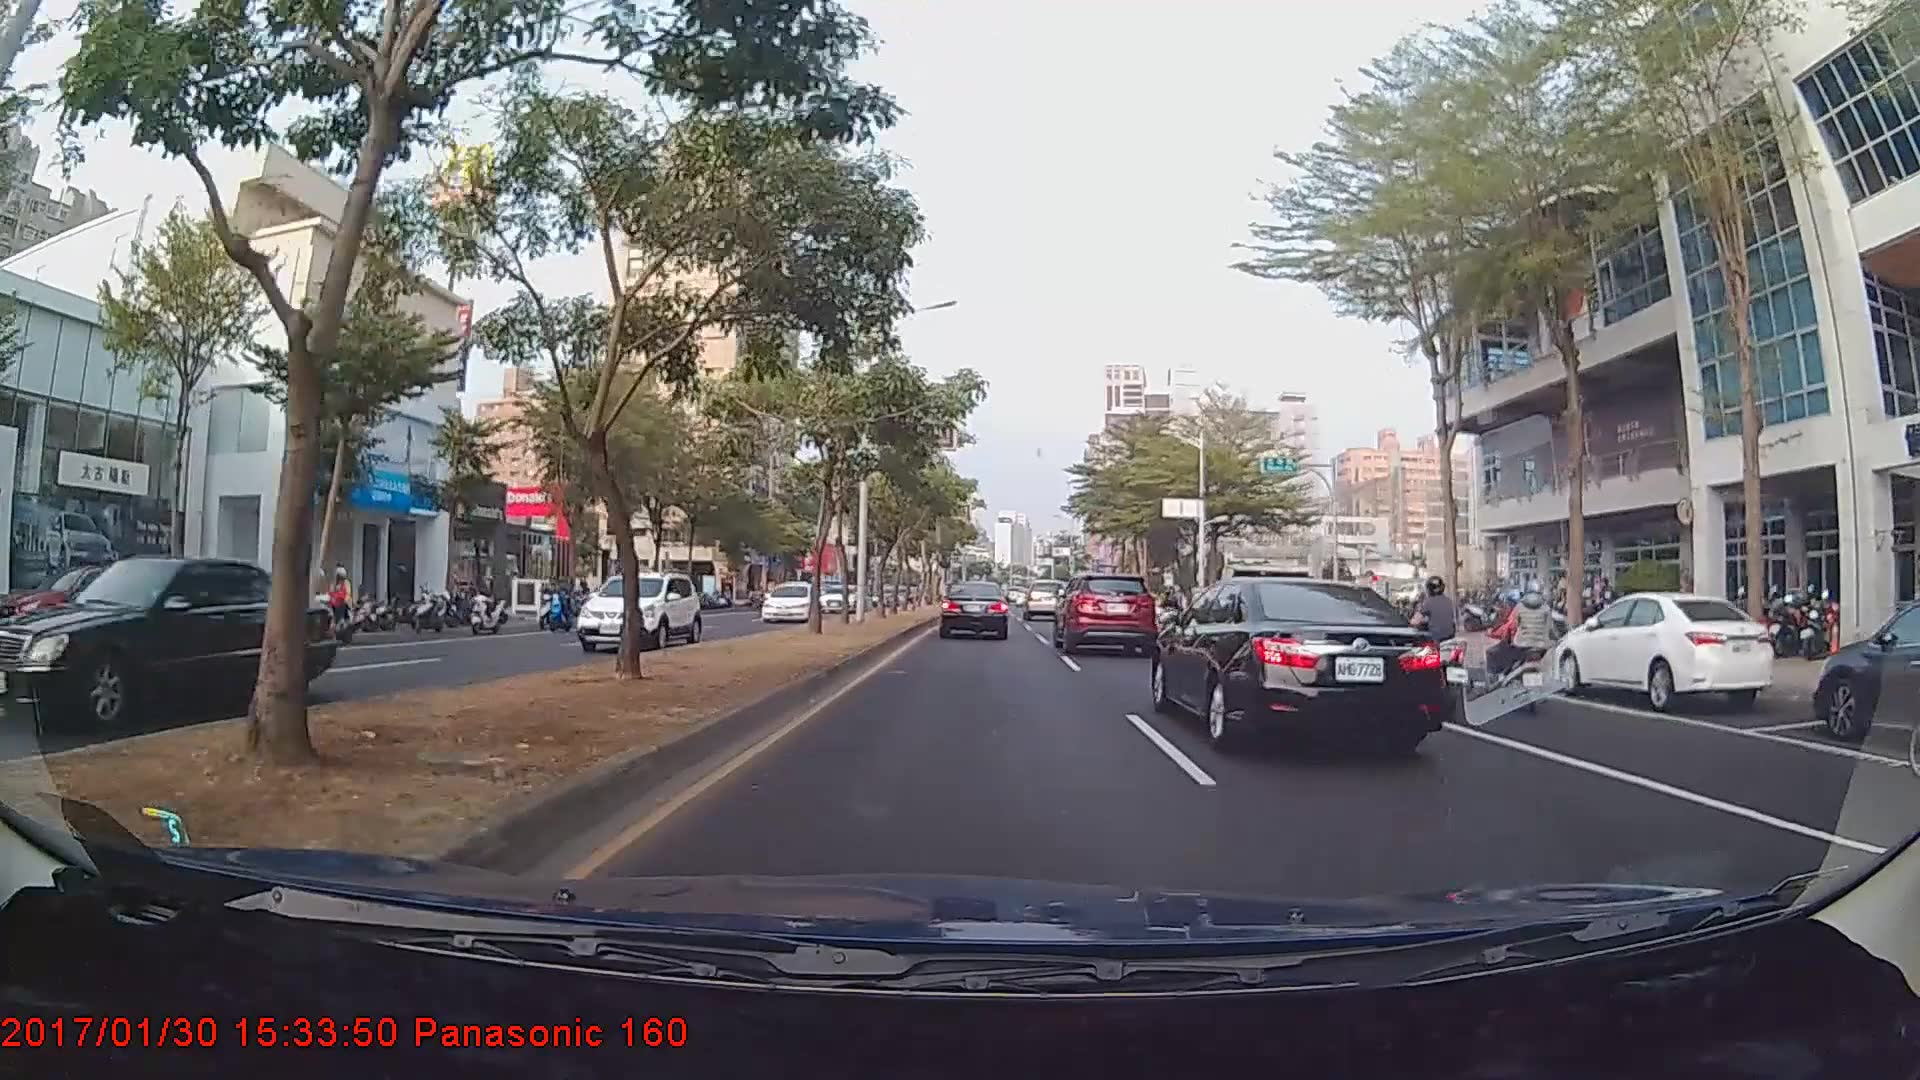rider: (1393, 572, 1480, 724), (1473, 578, 1559, 713)
vehicle: (0, 552, 338, 735), (1156, 566, 1439, 761), (1572, 587, 1776, 711), (1810, 592, 1920, 740), (6, 563, 160, 649), (572, 572, 702, 652), (1052, 573, 1158, 656), (939, 580, 1010, 640), (758, 583, 820, 624), (1025, 580, 1058, 620), (817, 584, 863, 613)
